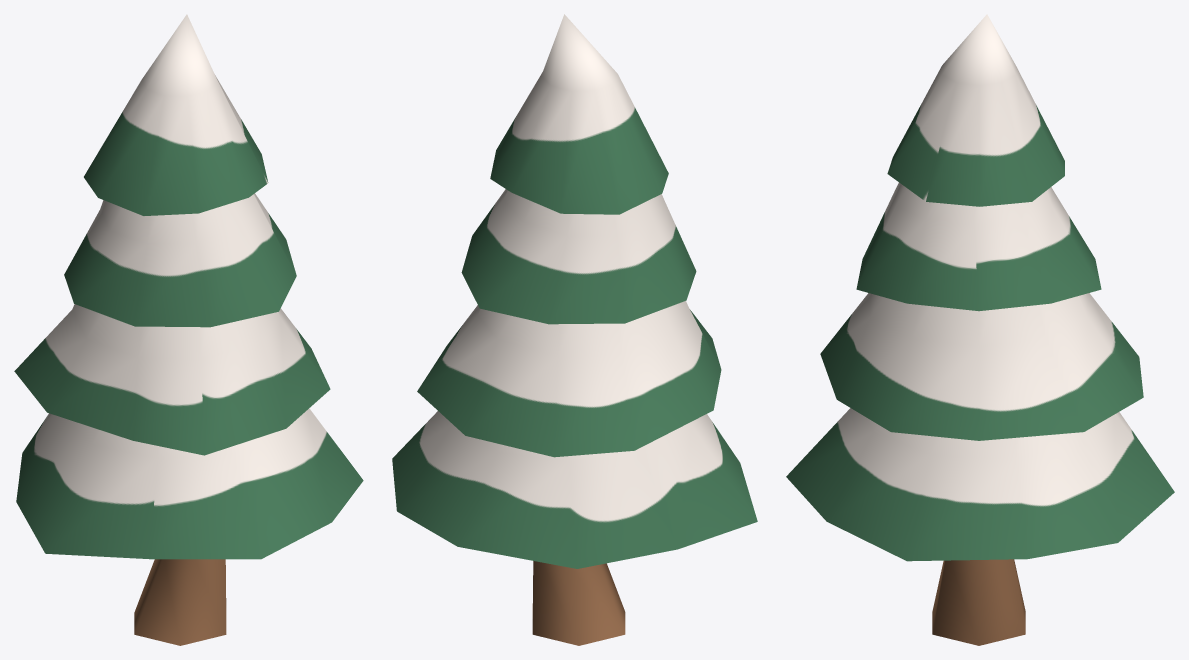
Rendered from Tree02_Snow.fbx.
3 views of the same model, side by side, from view 1: azimuth 30°, elevation 25°; view 2: azimuth 150°, elevation 25°; view 3: azimuth 270°, elevation 25° (orthographic).
Parts seen in each view (by area): view 1: Tree_2; view 2: Tree_2; view 3: Tree_2.
Boxes of the visible parts, x1=… form: Tree_2: x1=14, y1=14, x2=363, y2=645; Tree_2: x1=392, y1=14, x2=757, y2=645; Tree_2: x1=786, y1=14, x2=1174, y2=645.
Bounding box in the file's own units: 28.51 × 51.89 × 29.77.
Materials: 1 (1 with a texture image).
